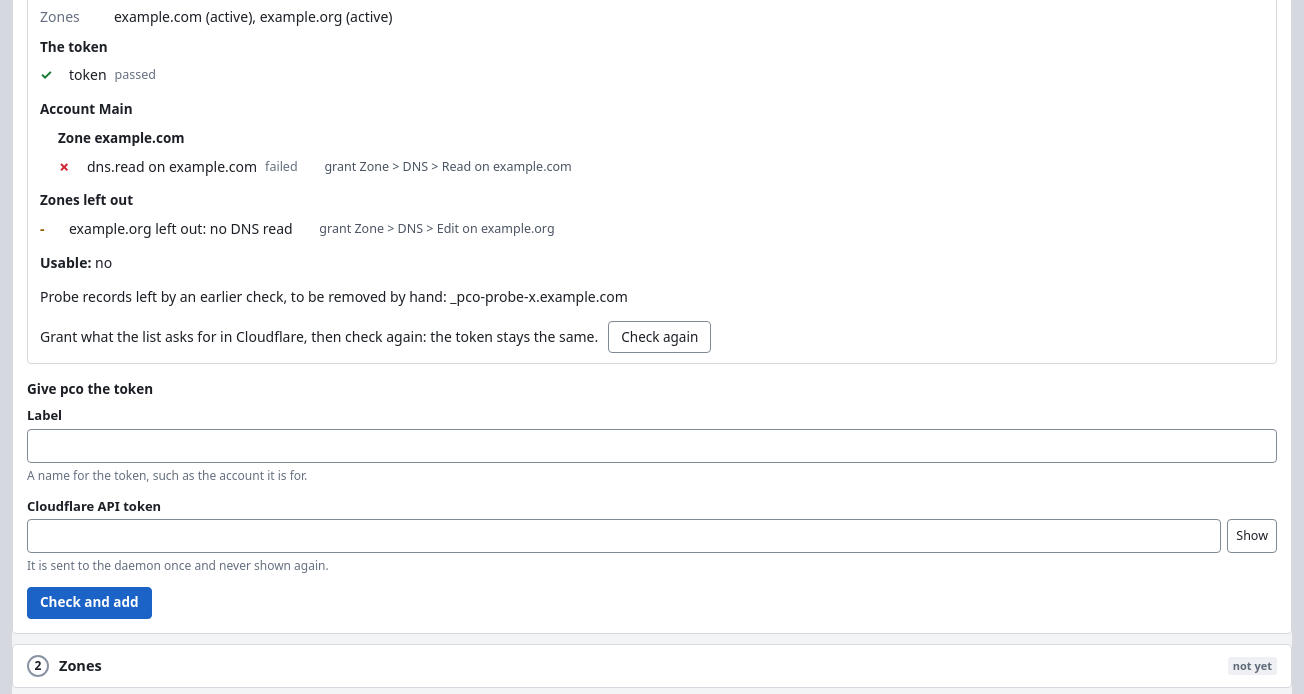
Test case: step 1, the token › a stored token that cannot be used shows its checklist open, and is checked again after the grant
(page scrolled)
Expected: the text "grant Zone > DNS > Read on example.com" is shown, [324, 158, 572, 175]
Expected: the text "Write access was not tried." is not shown
Click the button "Check again".
click(660, 338)  # box [608, 322, 711, 354]
(page scrolled)
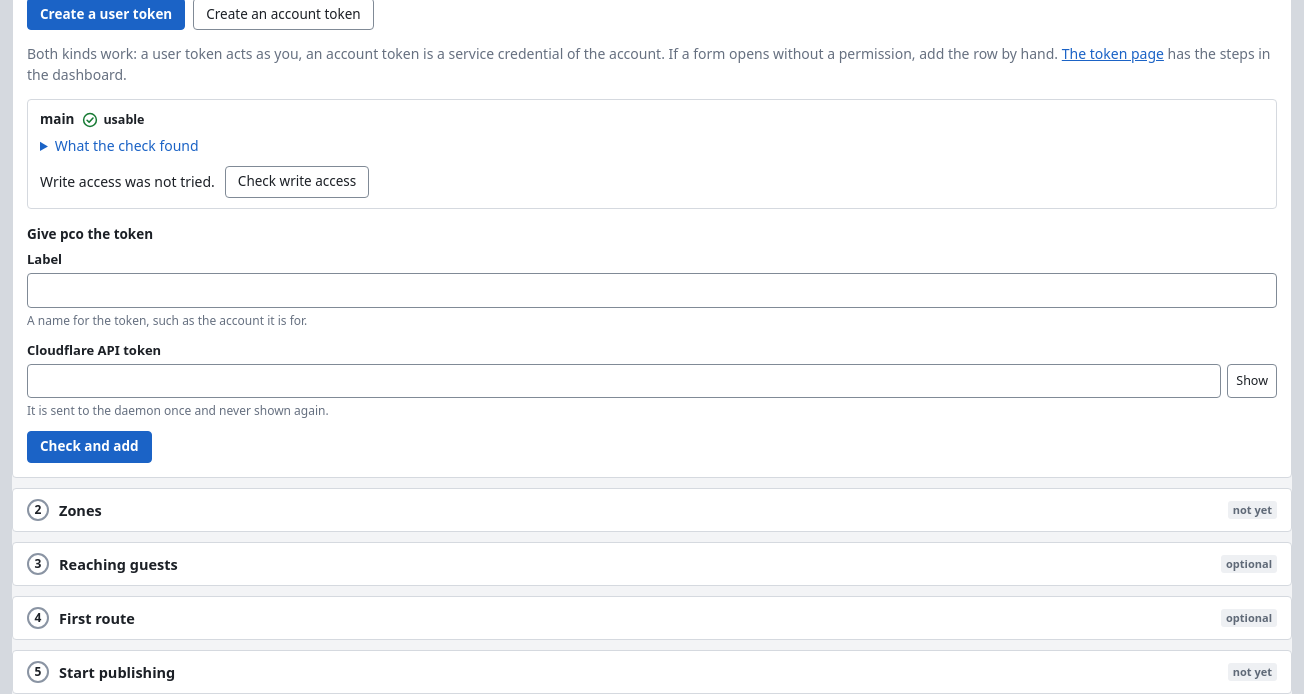
Expected: the text "usable" is shown, [103, 111, 144, 129]
